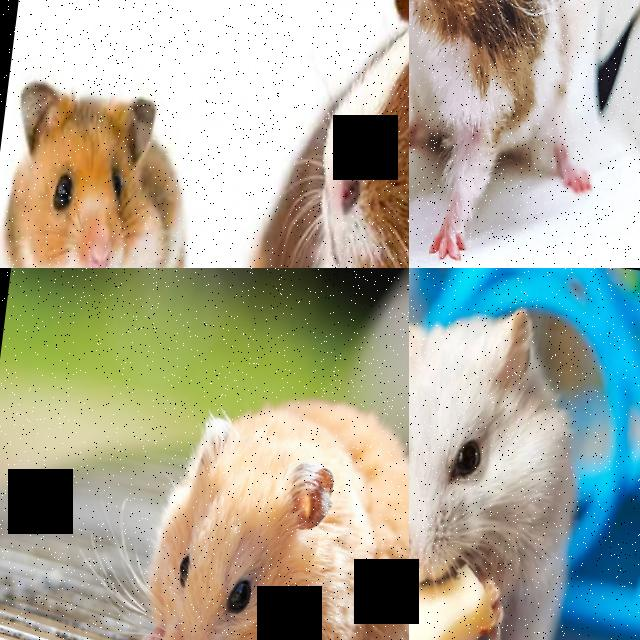hamster: (114, 370, 409, 640), (409, 286, 601, 640), (409, 0, 629, 268), (0, 76, 209, 268)
